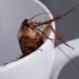cockroach: (17, 18, 43, 51)
